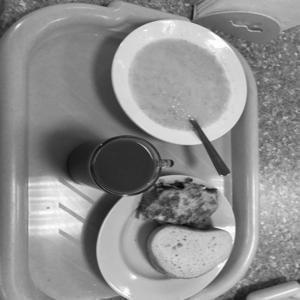bread: (135, 215, 245, 287)
cheese_sandwich: (137, 169, 220, 235)
coffee: (72, 116, 170, 201)
porridge: (120, 25, 243, 145)
